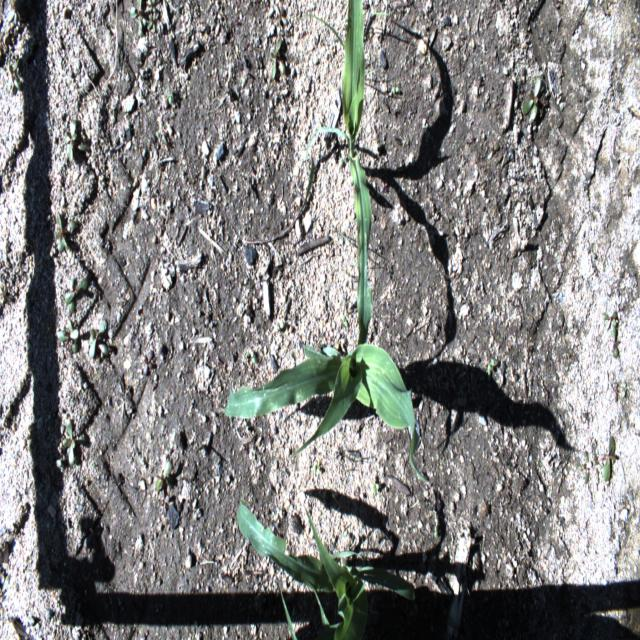crop: (224, 339, 428, 484), (237, 502, 415, 639), (305, 0, 373, 338), (278, 580, 298, 640)
weed: (575, 430, 619, 491), (518, 76, 550, 125), (63, 118, 88, 163), (86, 319, 111, 360), (54, 210, 78, 251), (602, 309, 621, 360), (64, 274, 88, 312), (56, 321, 80, 355), (269, 37, 288, 79), (129, 2, 148, 40), (63, 420, 77, 468), (154, 459, 174, 491), (5, 57, 21, 92), (340, 448, 375, 462), (613, 379, 626, 401), (148, 13, 158, 34), (164, 88, 174, 107), (487, 356, 495, 378), (371, 479, 379, 495), (432, 522, 439, 540), (147, 0, 158, 11), (313, 460, 319, 476), (391, 83, 399, 94), (342, 314, 348, 328)
